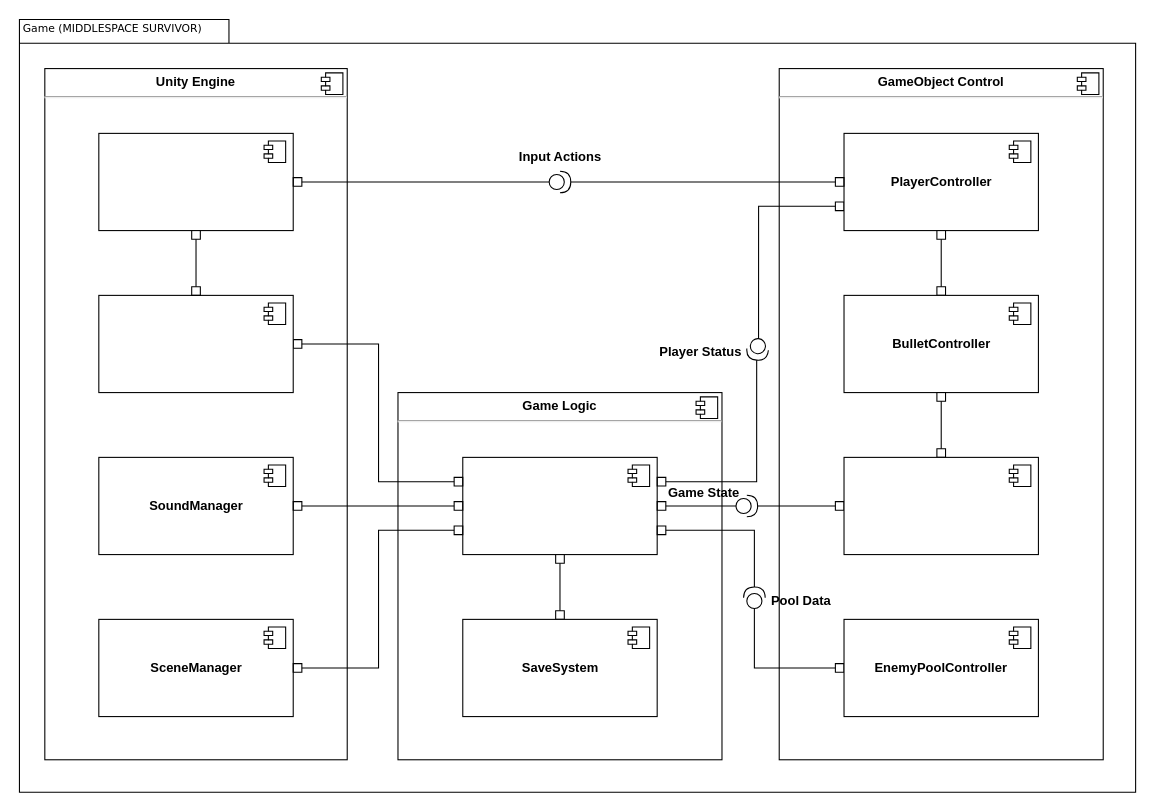
Some shapes in this 1155 by 811 pixel diagram are drawn without their labels. Here are the shapes that lost their labels. From the top down, the centre of each, then its label:
At (195,181): "InputSystem".
At (195,343): "UI EventSystem".
At (559,505): "GameManager".
At (940,505): "EnemyController".
